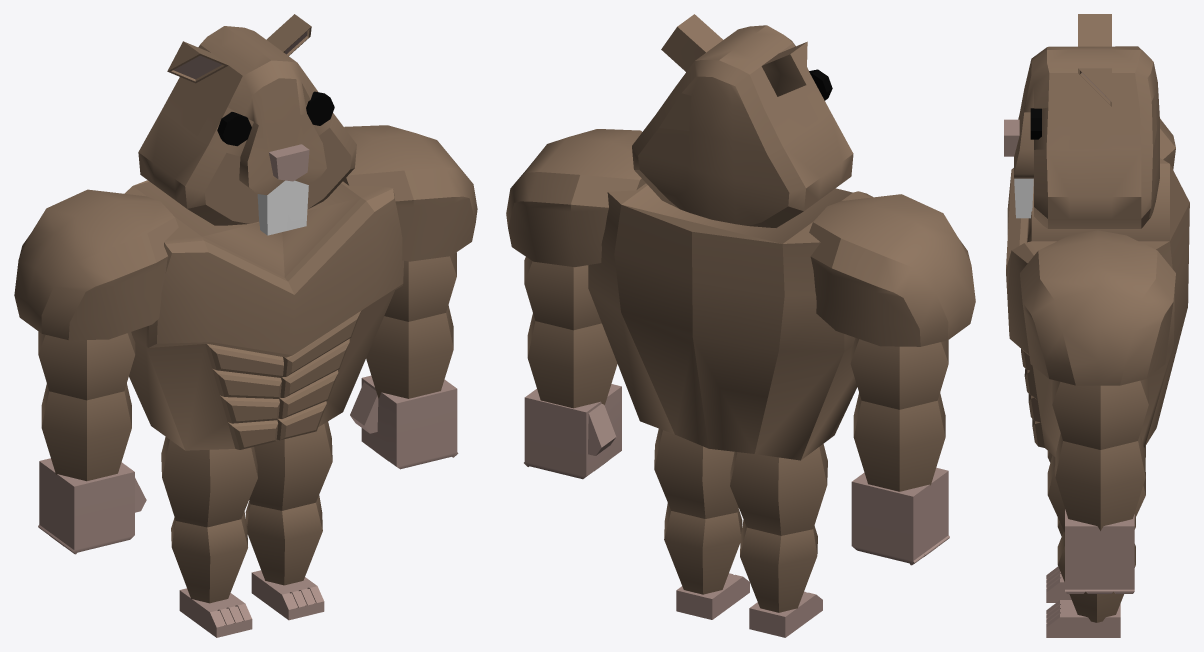
Rendered from bobo_the_chipmunk.fbx.
The picture shows the model from 3 angles, left to right: view 1: azimuth 30°, elevation 25°; view 2: azimuth 150°, elevation 25°; view 3: azimuth 270°, elevation 25°; orthographic projection.
Parts seen in each view (by area): view 1: polySurface269; view 2: polySurface269; view 3: polySurface269.
Boxes of the visible parts, <box> form: polySurface269: <box>14,14,477,637</box>; polySurface269: <box>506,14,975,637</box>; polySurface269: <box>1004,14,1189,637</box>.
Bounding box in the file's own units: 266 × 334 × 98.44.
